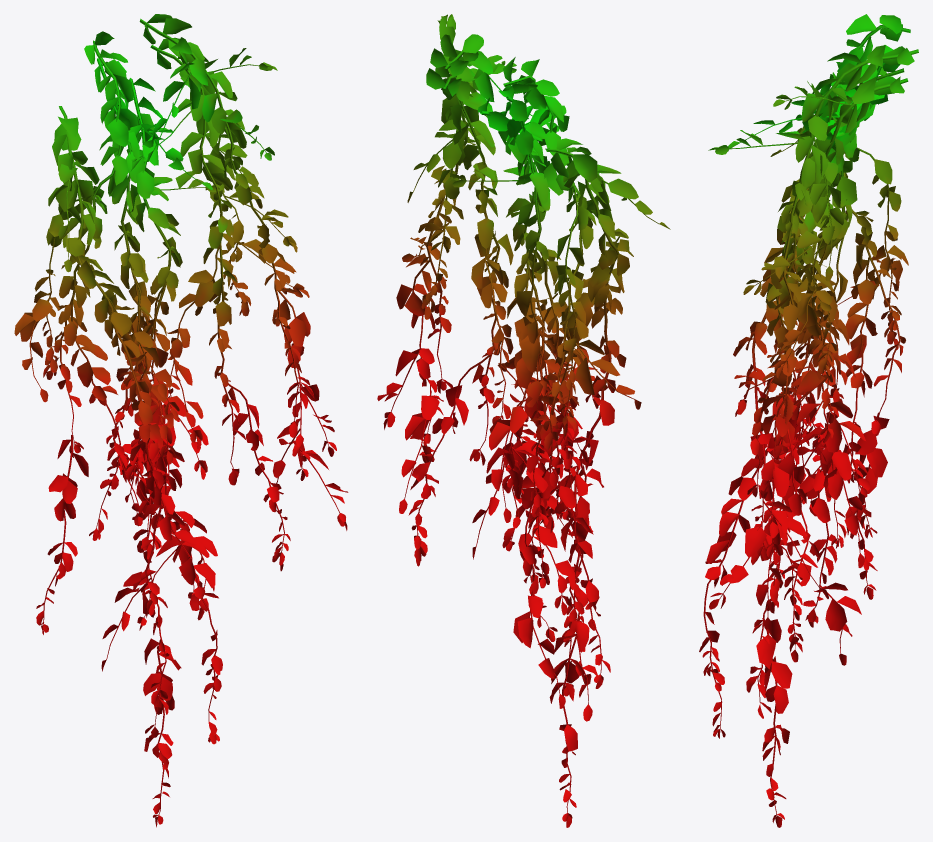
File: Var3_LOD2.fbx
3 views of the same model, side by side, from view 1: azimuth 30°, elevation 25°; view 2: azimuth 150°, elevation 25°; view 3: azimuth 270°, elevation 25° (orthographic). The views are drawn at different scales.
Parts seen in each view (by area): view 1: _pyr4_Var3_LOD2; view 2: _pyr4_Var3_LOD2; view 3: _pyr4_Var3_LOD2.
Boxes of the visible parts, box(x1,y1,x2,y2) form: _pyr4_Var3_LOD2: box(14, 14, 348, 827); _pyr4_Var3_LOD2: box(377, 14, 670, 827); _pyr4_Var3_LOD2: box(699, 14, 918, 827).
Bounding box in the file's own units: 74.75 × 198 × 48.47.
